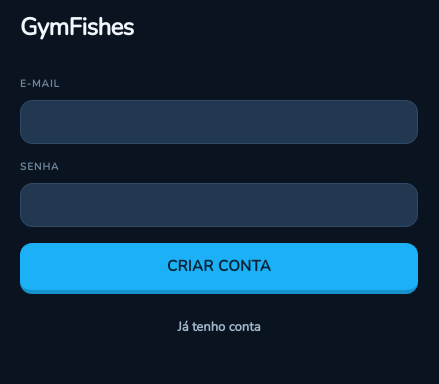
Test: SignUp › shows the confirmation message when sign-up succeeds without a session
Type "leo@exemplo.com" into the field labelled "E-mail". click: (219, 122)
box: x1=20 y1=100 x2=418 y2=144
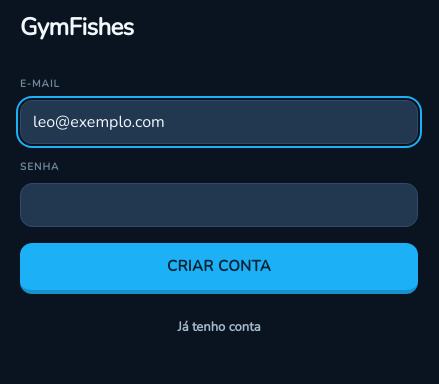
Type "senhaforte1" into the password field labelled "Senha". click: (219, 205)
box: x1=20 y1=183 x2=418 y2=227
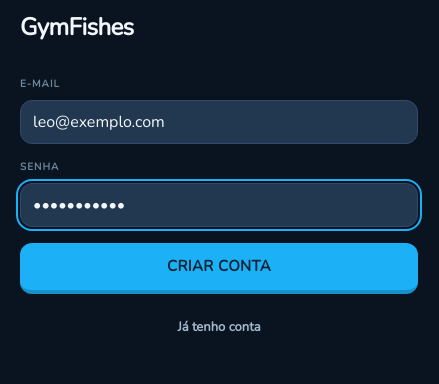
Click the button "Criar conta". click: (219, 268)
box: x1=20 y1=243 x2=418 y2=294
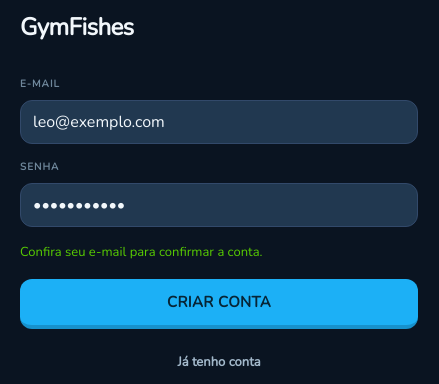
Now the text "Confira seu e-mail para confirmar a conta." is shown, box x1=20 y1=243 x2=262 y2=261
